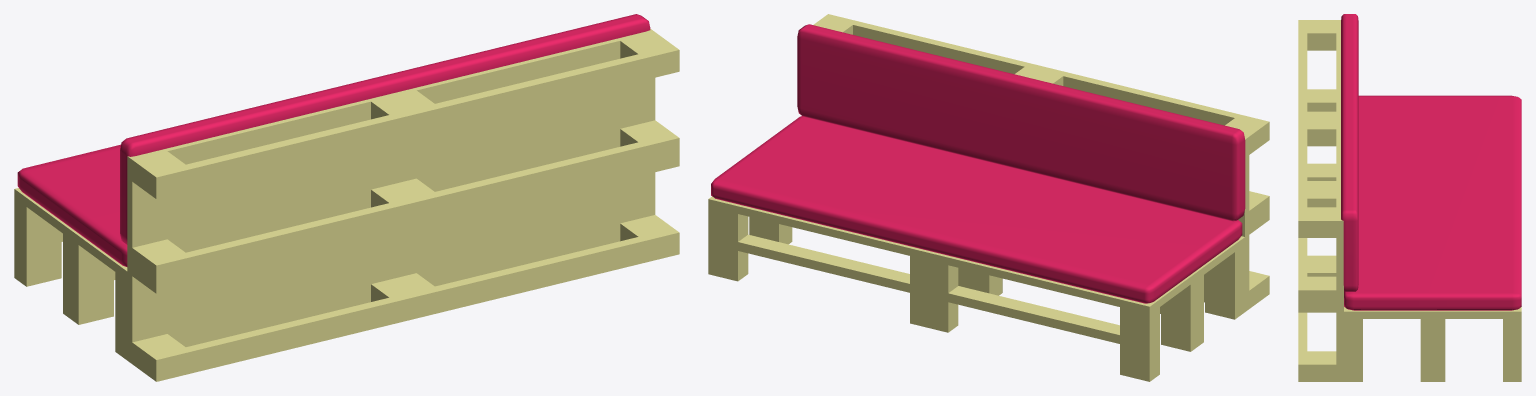
Rendered from outerBench.fbx.
The picture shows the model from 3 angles, left to right: view 1: azimuth 30°, elevation 25°; view 2: azimuth 150°, elevation 25°; view 3: azimuth 270°, elevation 25°; orthographic projection. The views are drawn at different scales.
Visible parts, largest first — view 1: outerBench; view 2: outerBench; view 3: outerBench.
Part boxes in pixels (left/top/right/bottom): outerBench: left=14, top=14, right=679, bottom=381; outerBench: left=708, top=14, right=1269, bottom=381; outerBench: left=1298, top=14, right=1521, bottom=381.
Bounding box in the file's own units: 226 × 88.8 × 106.
